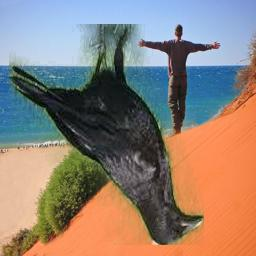Crow: (10, 25, 205, 246)
